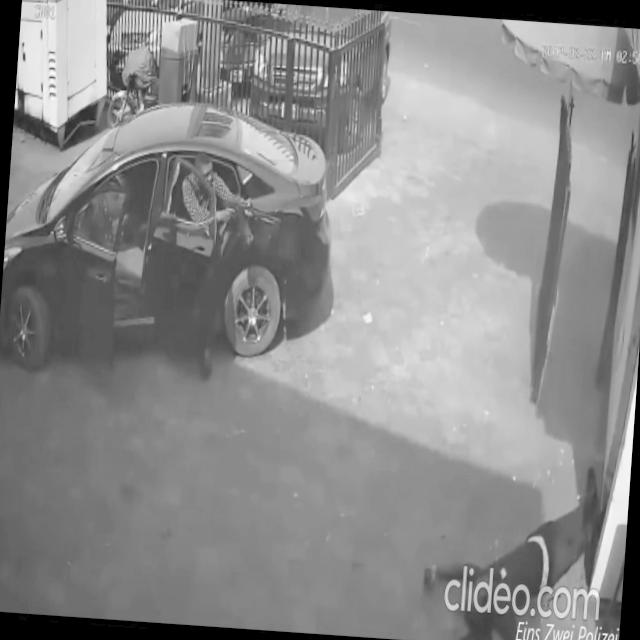gun: (215, 192, 284, 254)
person: (418, 449, 607, 640)
person with a gun: (169, 149, 288, 387)
